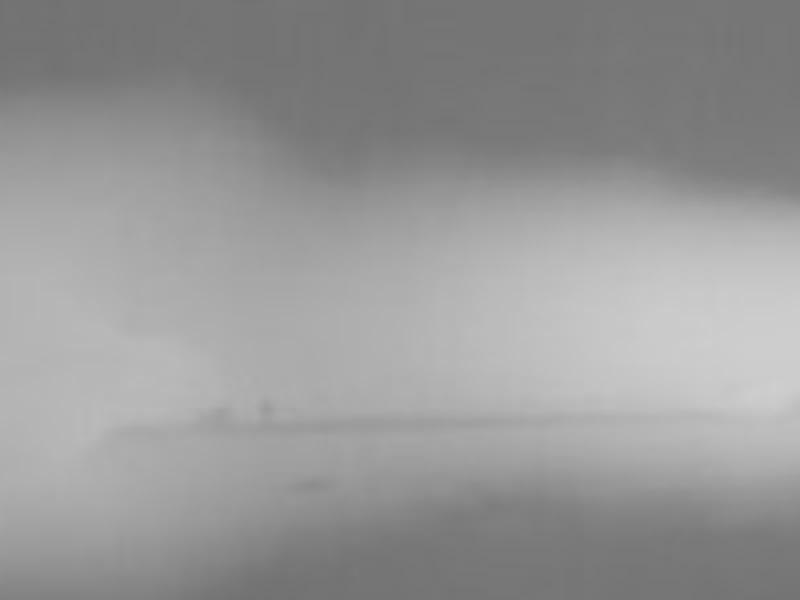defect: (258, 399, 278, 417)
